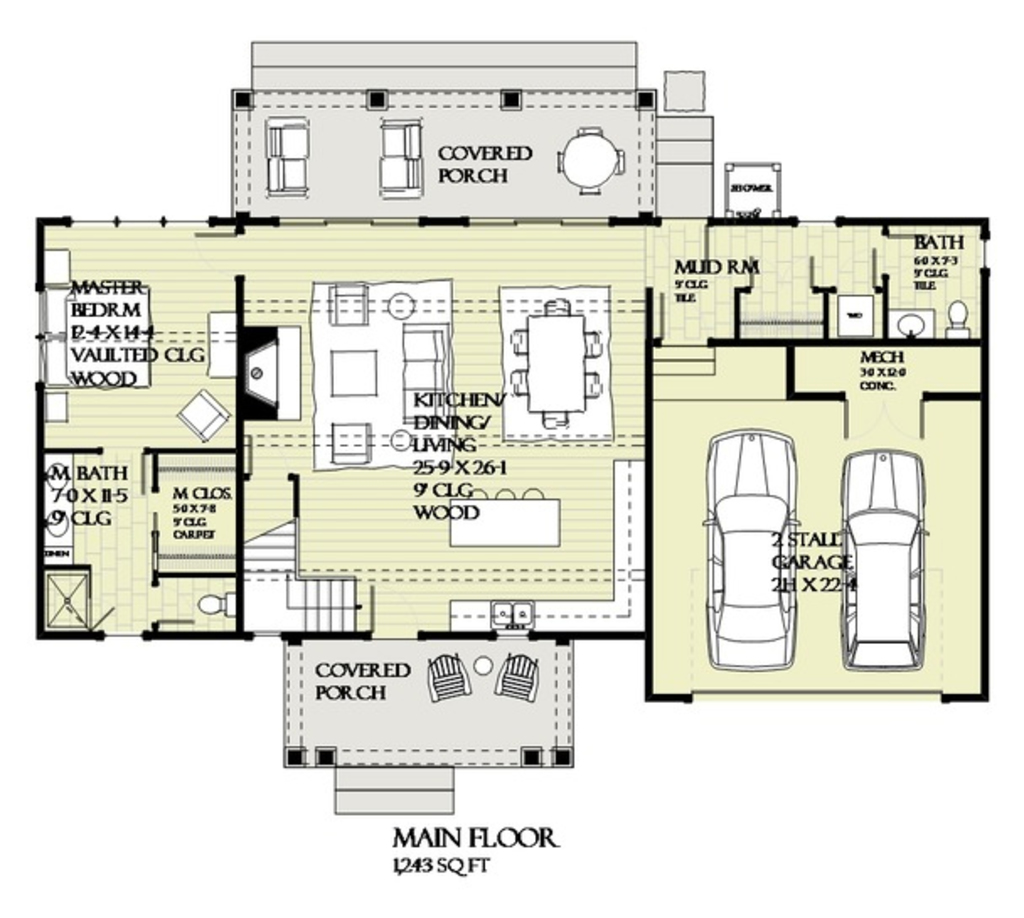bed: (41, 281, 156, 388)
dining_table: (486, 278, 634, 453)
kitchen_bar: (436, 474, 575, 553)
large_sink: (195, 583, 235, 623), (938, 297, 972, 343)
large_sofa: (401, 317, 471, 455)
round_table: (551, 108, 634, 204)
small_sink: (41, 451, 82, 545), (884, 303, 965, 348)
small_sofa: (182, 391, 239, 453), (322, 414, 381, 467), (324, 281, 381, 334)
stairs: (239, 467, 381, 633)
twin_sink: (479, 585, 546, 635)
